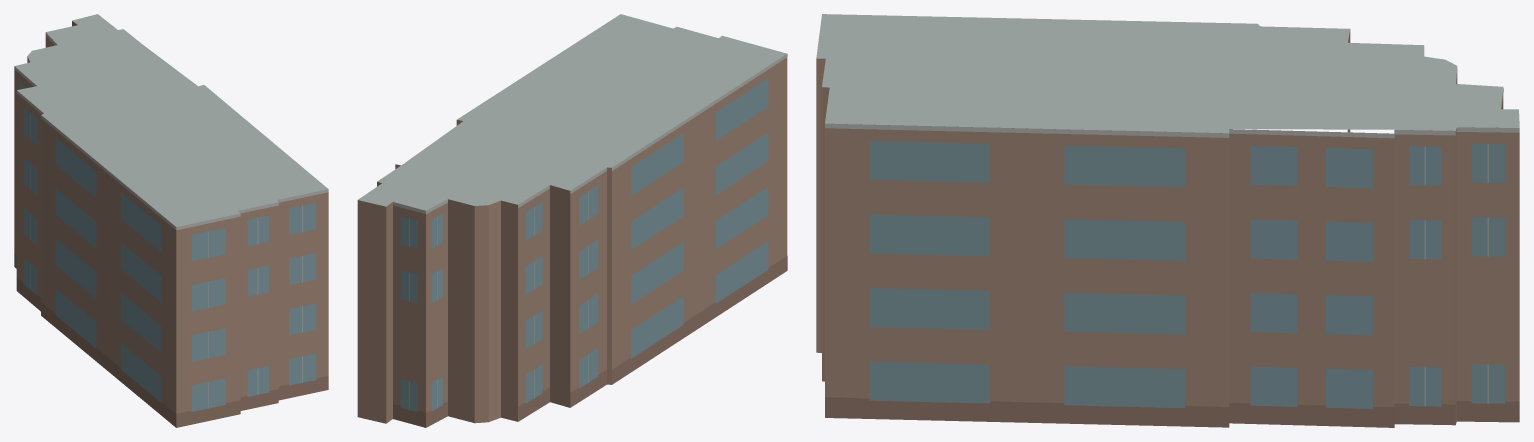
File: survey-upis-32498308.glb
The picture shows the model from 3 angles, left to right: view 1: azimuth 30°, elevation 25°; view 2: azimuth 150°, elevation 25°; view 3: azimuth 270°, elevation 25°; orthographic projection. The views are drawn at different scales.
Visible parts, largest first — view 1: survey-upis-32498308.tmp; view 2: survey-upis-32498308.tmp; view 3: survey-upis-32498308.tmp.
Part boxes in pixels (left/top/right/bottom): survey-upis-32498308.tmp: left=14, top=14, right=328, bottom=427; survey-upis-32498308.tmp: left=357, top=14, right=787, bottom=427; survey-upis-32498308.tmp: left=816, top=14, right=1519, bottom=427.
Size of the model in its own units: 13.43 by 15.4 by 33.37.
